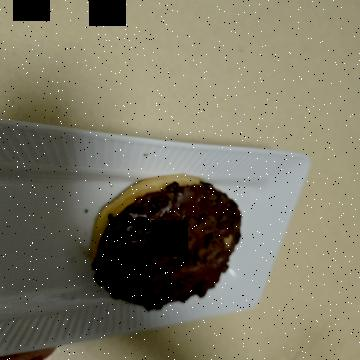doughnut: (162, 103, 318, 276)
